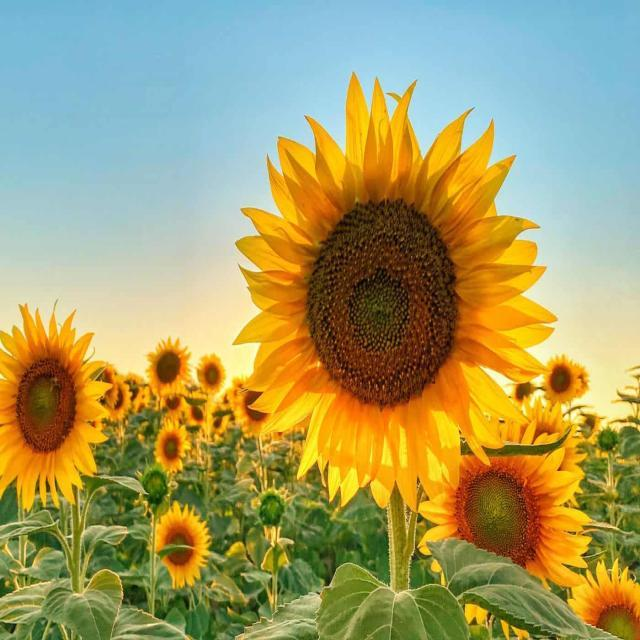sunflower: (232, 70, 558, 511), (418, 406, 592, 638), (0, 299, 112, 511), (501, 396, 588, 509), (567, 556, 639, 640), (152, 501, 212, 588), (144, 335, 192, 397), (154, 418, 192, 474), (234, 382, 271, 438), (542, 353, 582, 403), (196, 352, 226, 396), (103, 378, 131, 422), (98, 362, 120, 408), (570, 362, 590, 397), (122, 373, 144, 404), (164, 388, 186, 418), (185, 398, 205, 427), (512, 382, 534, 408), (210, 404, 228, 432), (582, 409, 600, 433), (578, 420, 596, 444), (232, 373, 248, 393), (220, 388, 234, 410), (133, 398, 148, 413), (92, 418, 104, 430)
